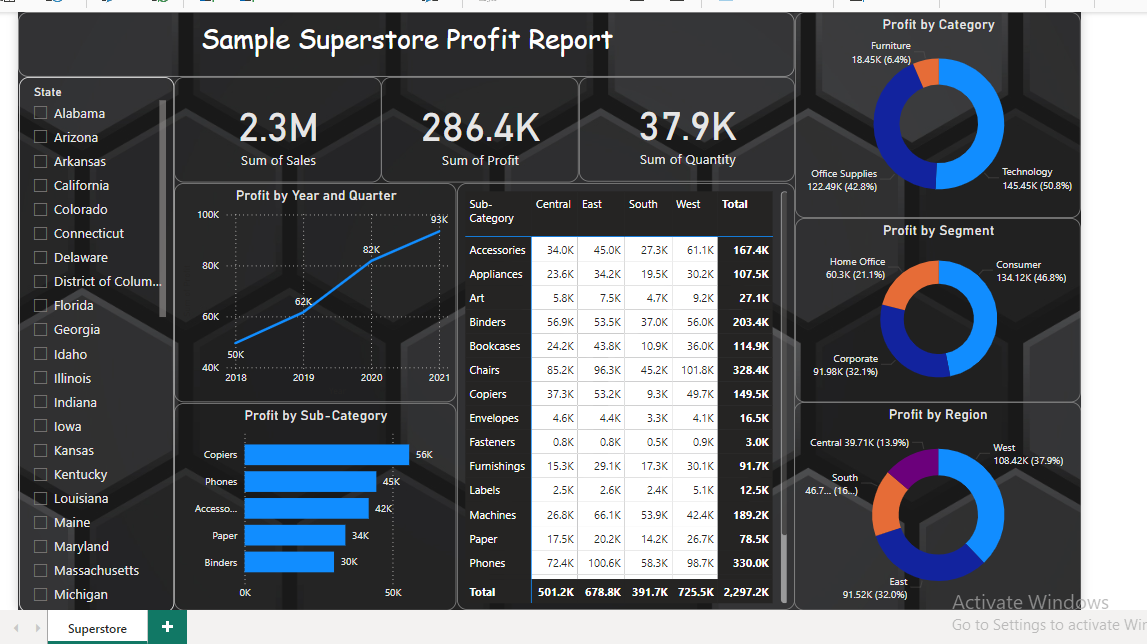

This screenshot's page, from the dashboard's own definition file:
{"tool":"powerbi","page":{"name":"Superstore","canvas":[1280,720],"ordinal":0},"visuals":[{"type":"donutChart","title":"Profit by Category","fields":{"Y":["Sum(Orders.Profit)"],"Category":["Orders.Category"]},"box":[935.5,0,344.2,248.3],"z":0},{"type":"donutChart","title":"Profit by Segment","fields":{"Y":["Sum(Orders.Profit)"],"Category":["Orders.Segment"]},"box":[935.5,248.3,344.2,222],"z":1000},{"type":"donutChart","title":"Profit by Region","fields":{"Y":["Sum(Orders.Profit)"],"Category":["Orders.Region"]},"box":[934.2,469.1,345.5,250.9],"z":2000},{"type":"barChart","title":" Profit by Sub-Category","fields":{"Y":["Sum(Orders.Profit)"],"Category":["Orders.Sub-Category"]},"box":[187.9,470.4,340.3,249.6],"z":3000},{"type":"lineChart","title":" Profit by Year and Quarter","fields":{"Y":["Sum(Orders.Profit)"],"Category":["Orders.Order Date.Variation.Date Hierarchy.Year","Orders.Order Date.Variation.Date Hierarchy.Quarter"]},"box":[187.9,206.3,340.3,264.1],"z":4000},{"type":"pivotTable","fields":{"Rows":["Orders.Sub-Category"],"Columns":["Orders.Region"],"Values":["Sum(Orders.Sales)"]},"box":[528.2,206.3,407.3,513.7],"z":5000},{"type":"slicer","title":"State","fields":{"Values":["Orders.State"]},"box":[1.3,78.8,186.6,645.1],"z":6000},{"type":"card","fields":{"Values":["Sum(Orders.Sales)"]},"box":[187.9,78.8,249.6,127.4],"z":7000},{"type":"card","fields":{"Values":["Sum(Orders.Profit)"]},"box":[437.5,78.8,237.8,127.4],"z":8000},{"type":"card","fields":{"Values":["Sum(Orders.Quantity)"]},"box":[675.3,78.8,260.1,126.1],"z":9000},{"type":"textbox","box":[0,0,934.7,78.5],"z":10000}]}

Visuals, with their boxes on the page's 1280x720 design canvas (x1, y1, x2, y2). These are canvas units, not pixel positions in the 1147x644 screenshot, which may show the page scaled, cropped or inside an application window:
"Profit by Category" donutChart: {"left": 936, "top": 0, "right": 1280, "bottom": 248}
"Profit by Segment" donutChart: {"left": 936, "top": 248, "right": 1280, "bottom": 470}
"Profit by Region" donutChart: {"left": 934, "top": 469, "right": 1280, "bottom": 720}
" Profit by Sub-Category" barChart: {"left": 188, "top": 470, "right": 528, "bottom": 720}
" Profit by Year and Quarter" lineChart: {"left": 188, "top": 206, "right": 528, "bottom": 470}
pivotTable - Orders.Sub-Category x Orders.Region: {"left": 528, "top": 206, "right": 936, "bottom": 720}
"State" slicer: {"left": 1, "top": 79, "right": 188, "bottom": 724}
card - Sum(Orders.Sales): {"left": 188, "top": 79, "right": 438, "bottom": 206}
card - Sum(Orders.Profit): {"left": 438, "top": 79, "right": 675, "bottom": 206}
card - Sum(Orders.Quantity): {"left": 675, "top": 79, "right": 935, "bottom": 205}
textbox: {"left": 0, "top": 0, "right": 935, "bottom": 78}
